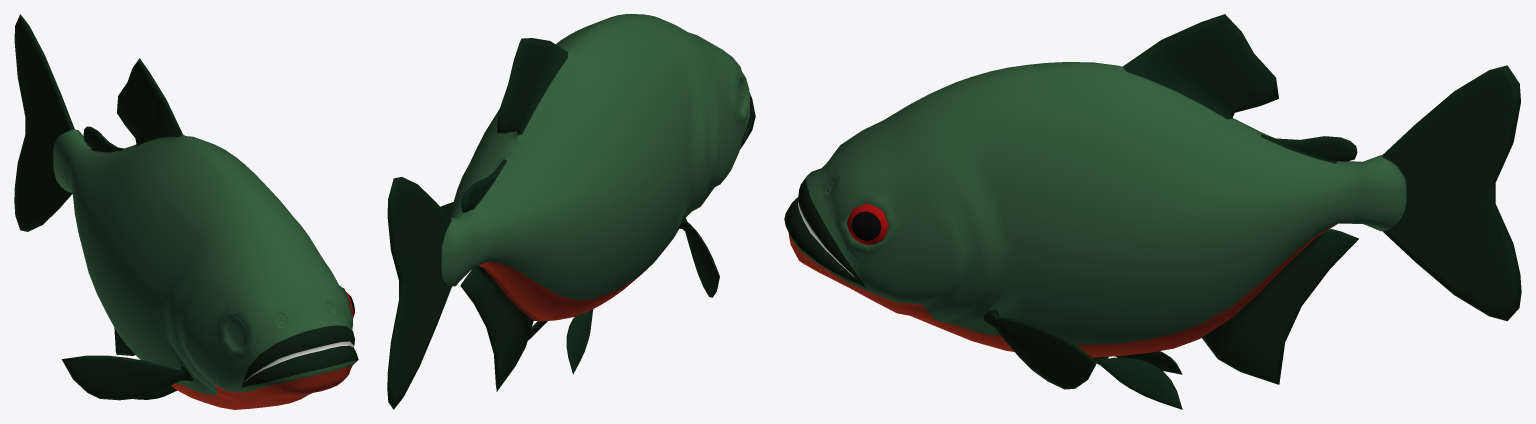
File: piranha.obj
The picture shows the model from 3 angles, left to right: view 1: azimuth 30°, elevation 25°; view 2: azimuth 150°, elevation 25°; view 3: azimuth 270°, elevation 25°; orthographic projection. The views are drawn at different scales.
Visible parts, largest first — view 1: piranha; view 2: piranha; view 3: piranha, eye.
Part boxes in pixels (x1=…): piranha: x1=14, y1=14, x2=358, y2=409; piranha: x1=387, y1=14, x2=755, y2=409; piranha: x1=784, y1=14, x2=1521, y2=409; eye: x1=847, y1=203, x2=888, y2=245.
Size of the model in its own units: 0.1335 by 0.1547 by 0.2731.
